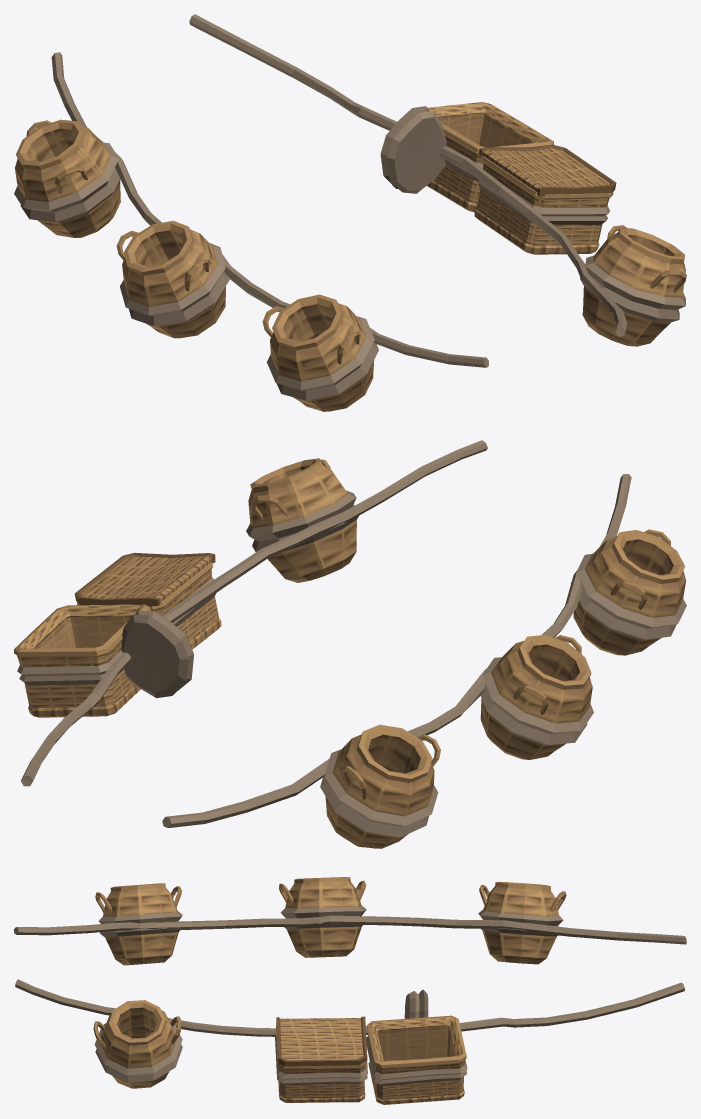
Rendered from SM_Veh_Boat_Small_01_Insert_01.fbx.
3 views of the same model, one above another, from view 1: azimuth 30°, elevation 25°; view 2: azimuth 150°, elevation 25°; view 3: azimuth 270°, elevation 25° (orthographic). The views are drawn at different scales.
Visible parts, largest first — view 1: SM_Veh_Boat_Small_01_Insert_01; view 2: SM_Veh_Boat_Small_01_Insert_01; view 3: SM_Veh_Boat_Small_01_Insert_01.
Part boxes in pixels (box(x1,y1,x2,y2)): SM_Veh_Boat_Small_01_Insert_01: box(14, 14, 686, 411); SM_Veh_Boat_Small_01_Insert_01: box(14, 440, 686, 848); SM_Veh_Boat_Small_01_Insert_01: box(14, 877, 686, 1104).
Bounding box in the file's own units: 303 × 71.59 × 492.
